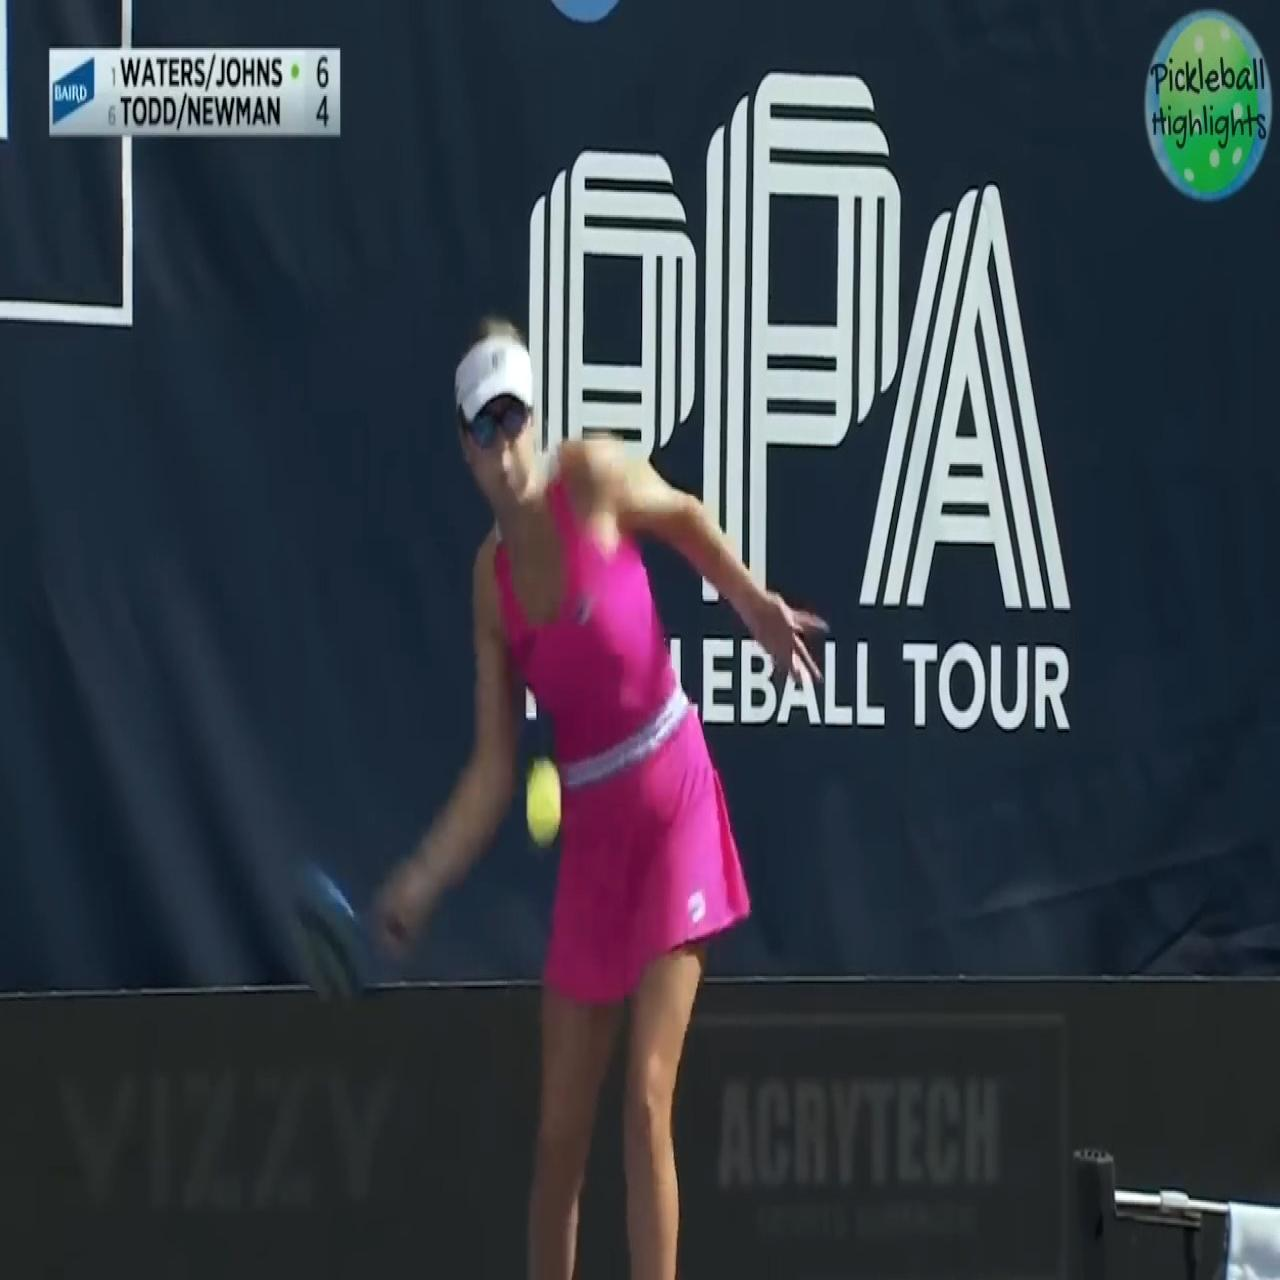Pickleball: (523, 749, 563, 851)
